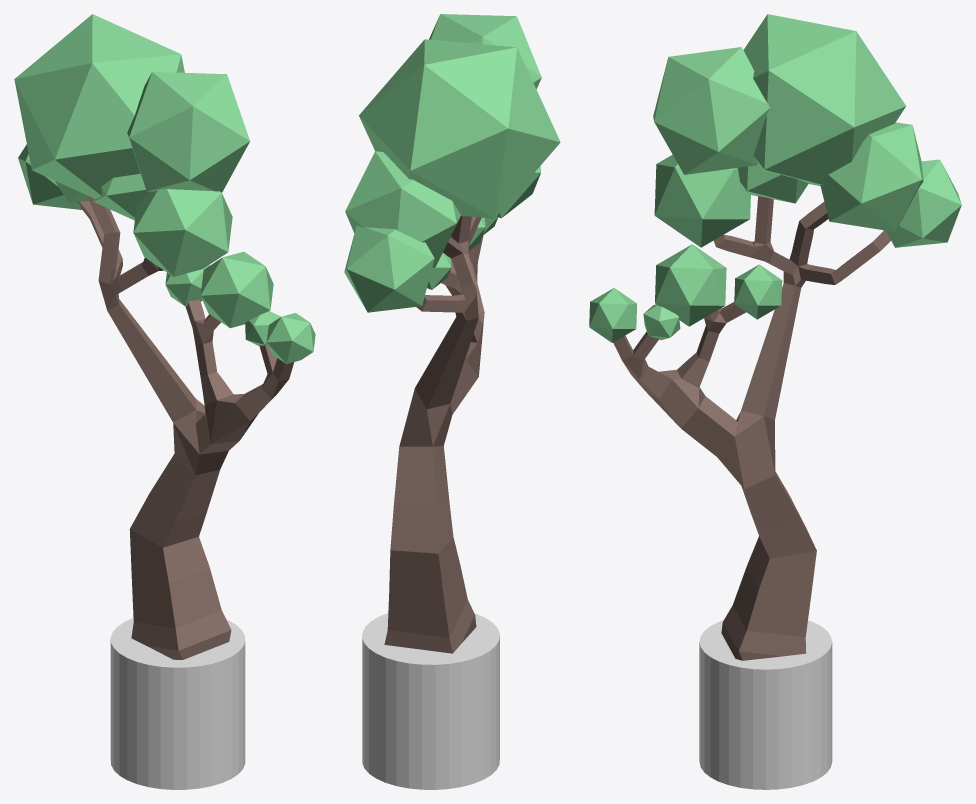
File: tree_munro2.glb
The picture shows the model from 3 angles, left to right: view 1: azimuth 30°, elevation 25°; view 2: azimuth 150°, elevation 25°; view 3: azimuth 270°, elevation 25°; orthographic projection. The views are drawn at different scales.
Visible parts, largest first — view 1: Cube, Cylinder_col, Icosphere.008, Icosphere.009, Icosphere.003, Icosphere.004, Icosphere.006, Icosphere.002, Icosphere, Icosphere.005, Icosphere.007; view 2: Icosphere.008, Cube, Cylinder_col, Icosphere.001, Icosphere, Icosphere.009, Icosphere.003, Icosphere.005; view 3: Cube, Cylinder_col, Icosphere.008, Icosphere.009, Icosphere.001, Icosphere.003, Icosphere.004, Icosphere, Icosphere.005, Icosphere.006, Icosphere.002, Icosphere.007.
Boxes of the visible parts, <box> form: Cube: <box>80,195,294,659</box>; Cylinder_col: <box>110,618,245,789</box>; Icosphere.008: <box>14,14,184,198</box>; Icosphere.009: <box>127,72,249,192</box>; Icosphere.003: <box>133,189,232,276</box>; Icosphere.004: <box>200,251,273,328</box>; Icosphere.006: <box>266,313,315,363</box>; Icosphere.002: <box>92,173,149,220</box>; Icosphere: <box>18,144,81,209</box>; Icosphere.005: <box>165,265,209,306</box>; Icosphere.007: <box>245,311,280,346</box>; Icosphere.008: <box>359,39,560,218</box>; Cube: <box>384,216,484,653</box>; Cylinder_col: <box>362,613,499,789</box>; Icosphere.001: <box>345,151,460,267</box>; Icosphere: <box>344,226,434,312</box>; Icosphere.009: <box>429,14,541,89</box>; Icosphere.003: <box>497,166,540,218</box>; Icosphere.005: <box>427,253,451,289</box>; Cube: <box>613,196,890,660</box>; Cylinder_col: <box>699,620,832,789</box>; Icosphere.008: <box>743,14,905,186</box>; Icosphere.009: <box>653,47,769,174</box>; Icosphere.001: <box>820,122,923,231</box>; Icosphere.003: <box>654,154,750,247</box>; Icosphere.004: <box>655,244,726,326</box>; Icosphere: <box>886,159,961,247</box>; Icosphere.005: <box>734,264,782,319</box>; Icosphere.006: <box>589,288,637,342</box>; Icosphere.002: <box>737,163,808,203</box>; Icosphere.007: <box>643,304,680,340</box>.
Bounding box in the file's own units: 2.59 × 9.7 × 4.6.
